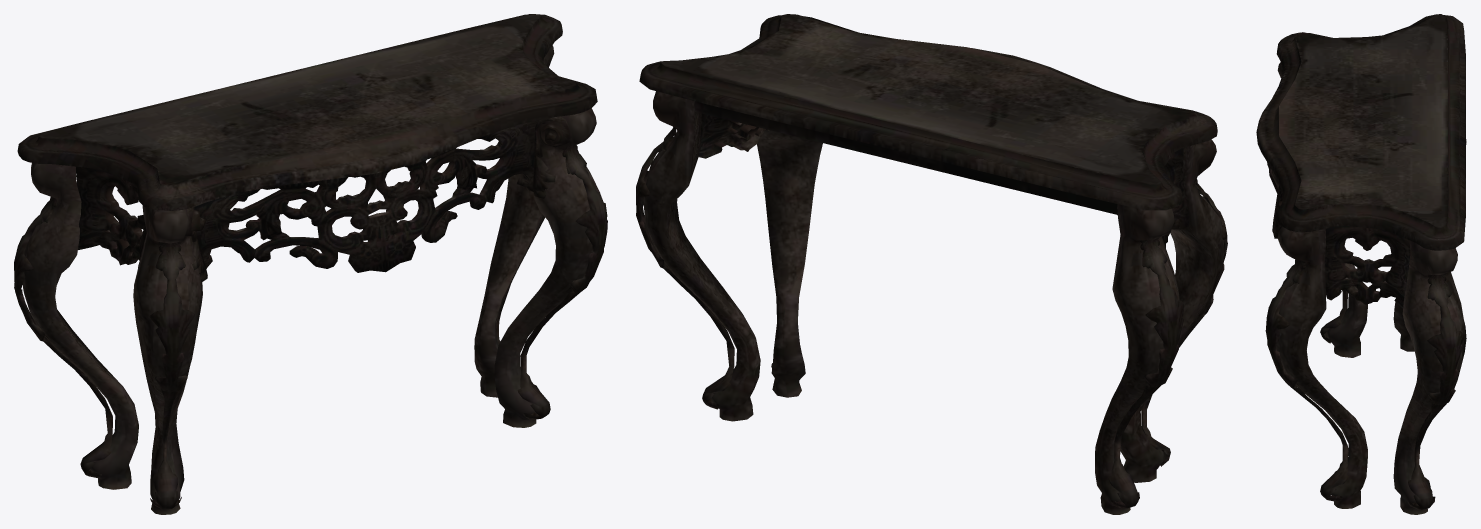
File: ClassicConsole_01.glb
3 renders of one model, left to right at view 1: azimuth 30°, elevation 25°; view 2: azimuth 150°, elevation 25°; view 3: azimuth 270°, elevation 25°, orthographic. The views are drawn at different scales.
Parts seen in each view (by area): view 1: ClassicConsole_01; view 2: ClassicConsole_01; view 3: ClassicConsole_01.
Boxes of the visible parts, box(x1,y1,x2,y2) form: ClassicConsole_01: box(14, 14, 607, 514); ClassicConsole_01: box(636, 14, 1227, 514); ClassicConsole_01: box(1256, 14, 1466, 514).
Bounding box in the file's own units: 1.54 × 0.9491 × 0.5892.
Materials: 1 (1 with a texture image).
